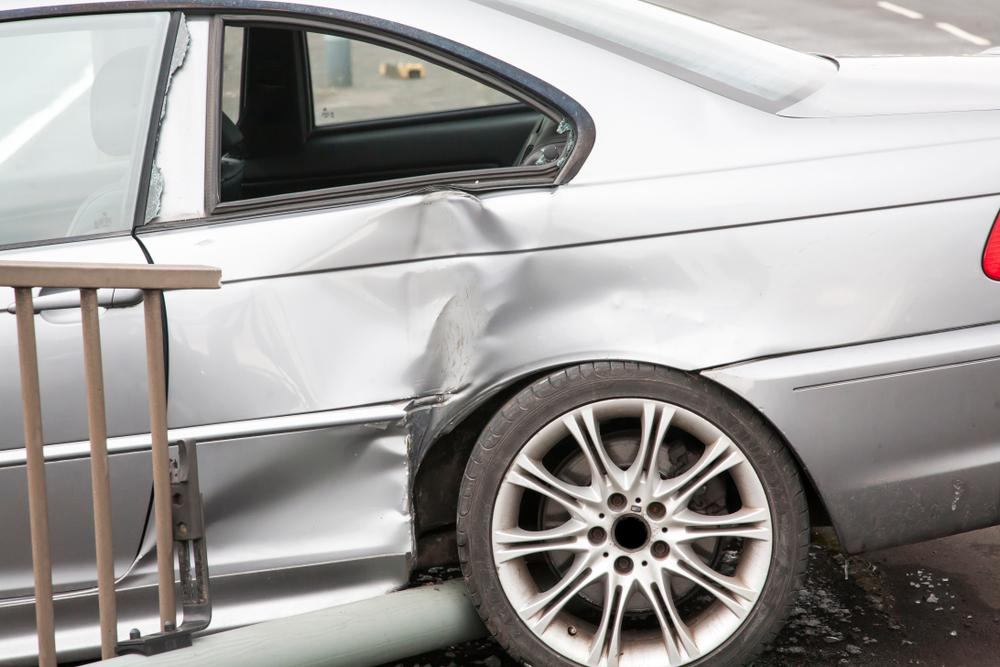dent: (211, 193, 790, 559)
